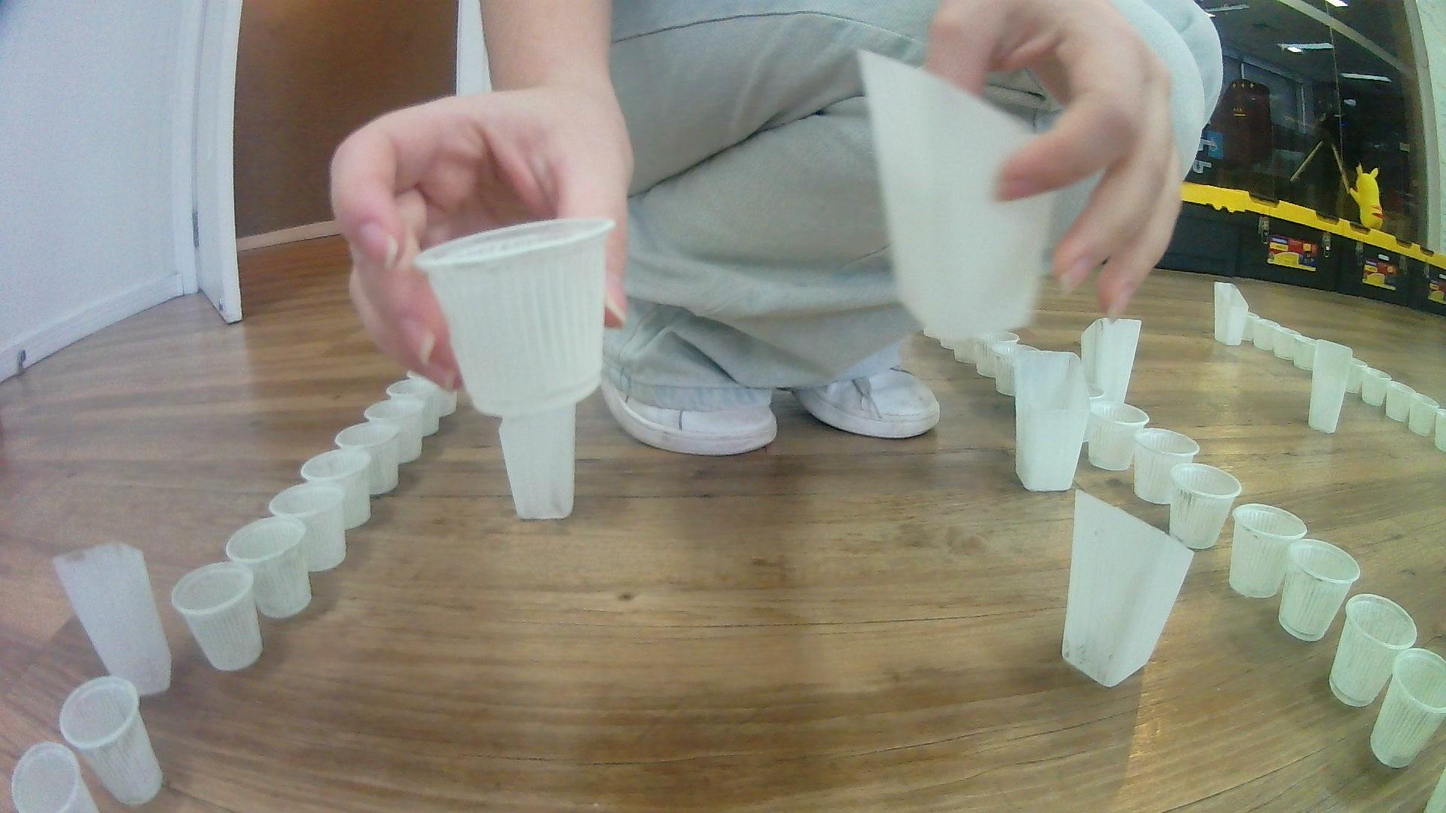erva_daninha: (856, 44, 1109, 340), (1061, 486, 1197, 688), (49, 537, 173, 699), (1014, 350, 1092, 493), (493, 400, 580, 522), (1080, 316, 1142, 407), (1308, 336, 1355, 434), (1213, 281, 1250, 346)
planta: (414, 212, 615, 420), (58, 674, 163, 807), (1326, 593, 1419, 708), (170, 562, 264, 673), (1369, 647, 1446, 770), (224, 516, 313, 620), (1277, 537, 1361, 643), (1228, 504, 1308, 600), (269, 482, 348, 574), (9, 741, 102, 813), (1167, 463, 1243, 551), (299, 448, 373, 531), (1133, 428, 1201, 505), (334, 421, 401, 495), (1083, 403, 1151, 472), (363, 400, 426, 464), (384, 379, 440, 437), (404, 368, 459, 419), (953, 330, 1020, 364), (975, 340, 1027, 378), (995, 349, 1026, 397), (1408, 393, 1441, 437), (1361, 367, 1393, 406), (1386, 382, 1416, 422), (1252, 318, 1282, 351), (1271, 327, 1300, 361), (1240, 312, 1267, 347), (1344, 358, 1369, 394), (1292, 336, 1316, 371), (939, 338, 975, 361), (920, 327, 950, 349), (1084, 384, 1106, 413), (1433, 407, 1446, 453)
